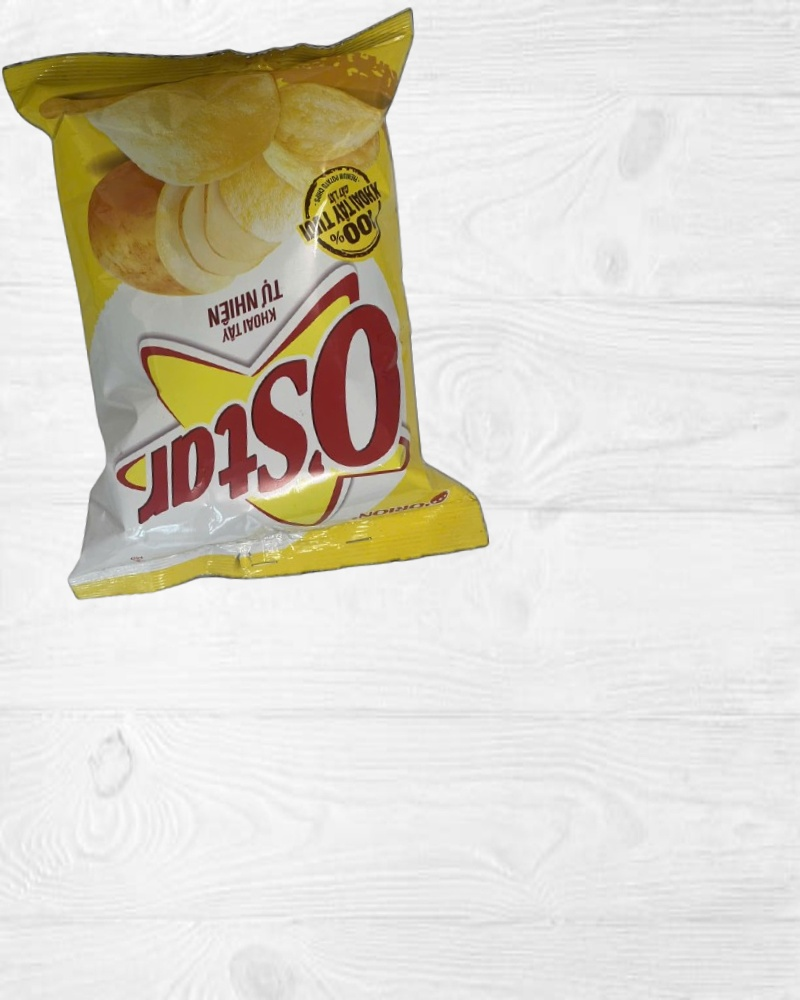Snack cua: (6, 12, 489, 596)
